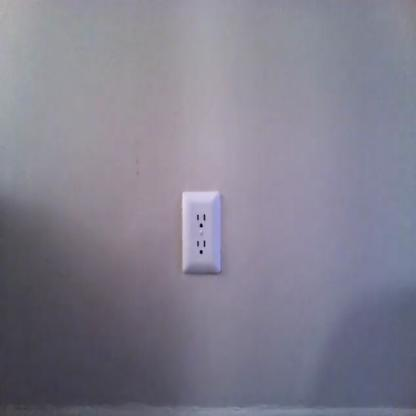OUTLET: (180, 190, 223, 274)
